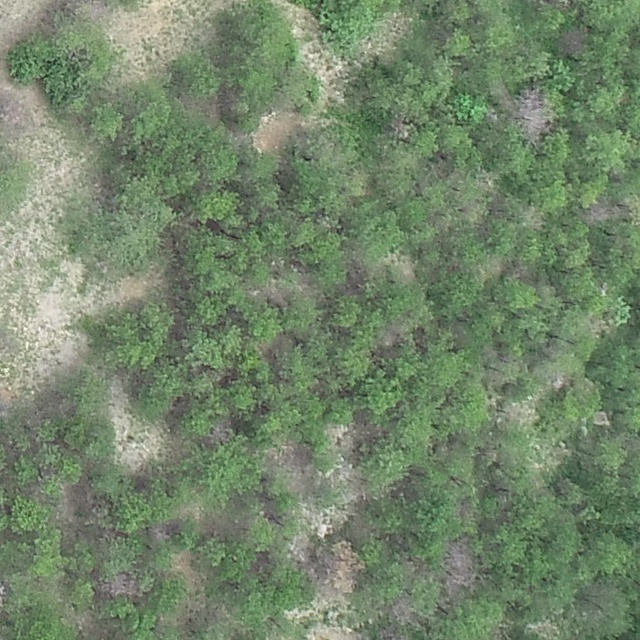unhealthy: (509, 86, 554, 139), (325, 540, 367, 593), (447, 536, 482, 589), (100, 571, 144, 597), (558, 27, 589, 58), (582, 203, 630, 223), (389, 595, 414, 624), (504, 402, 536, 424), (207, 417, 229, 445), (389, 118, 415, 141), (521, 207, 543, 230), (149, 523, 172, 544), (380, 329, 399, 349)
